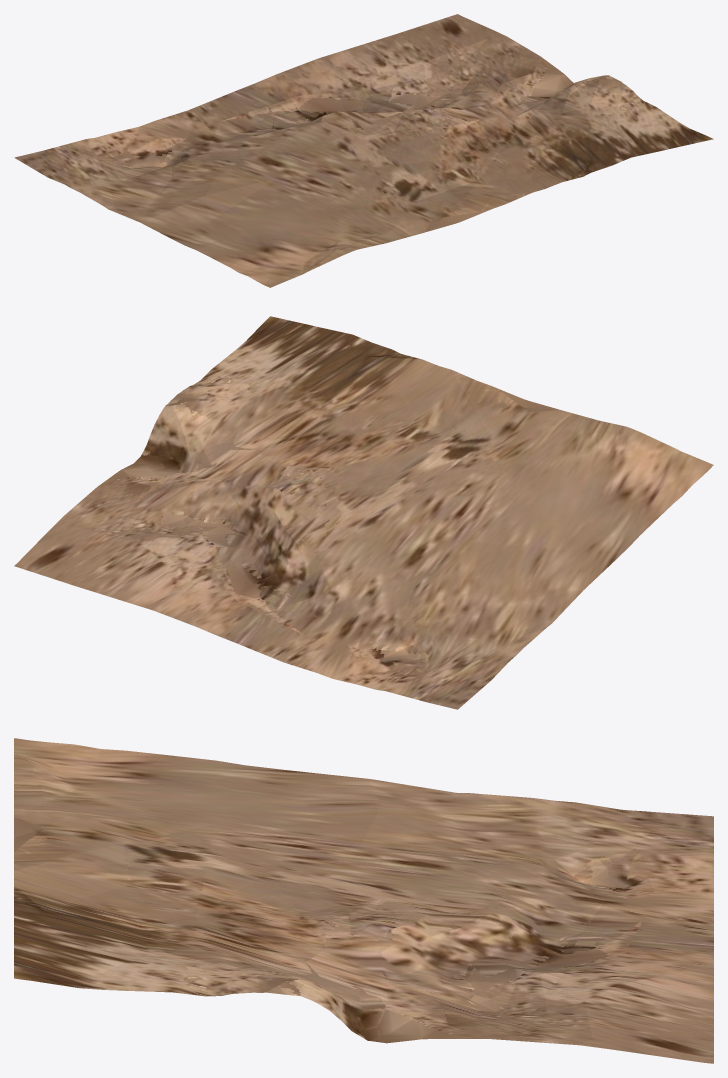
3 renders of one model, top to bottom at view 1: azimuth 30°, elevation 25°; view 2: azimuth 150°, elevation 25°; view 3: azimuth 270°, elevation 25°, orthographic. The views are drawn at different scales.
Bounding box in the file's own units: 1.04 × 0.2248 × 1.04.
2 materials, 2 textured.
